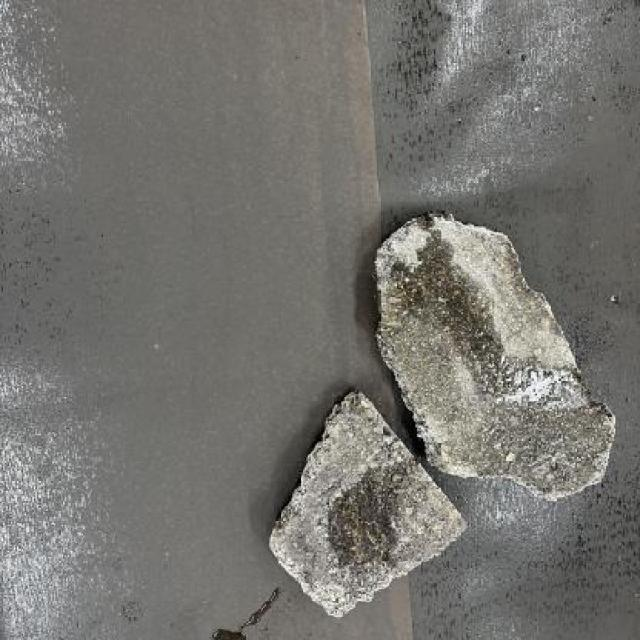Road Debris: (314, 462, 442, 584), (386, 229, 504, 354), (488, 350, 590, 461)
